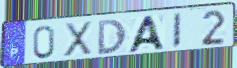0: (32, 25, 57, 61)
2: (200, 9, 228, 48)
A: (125, 14, 167, 54)
D: (96, 18, 128, 56)
I: (171, 12, 183, 50)
X: (62, 20, 93, 58)
